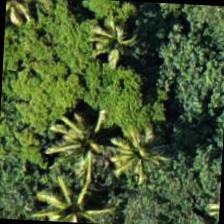Kelapa_Sawit: (80, 0, 175, 95), (36, 98, 130, 193), (86, 108, 180, 202), (31, 164, 126, 223)
